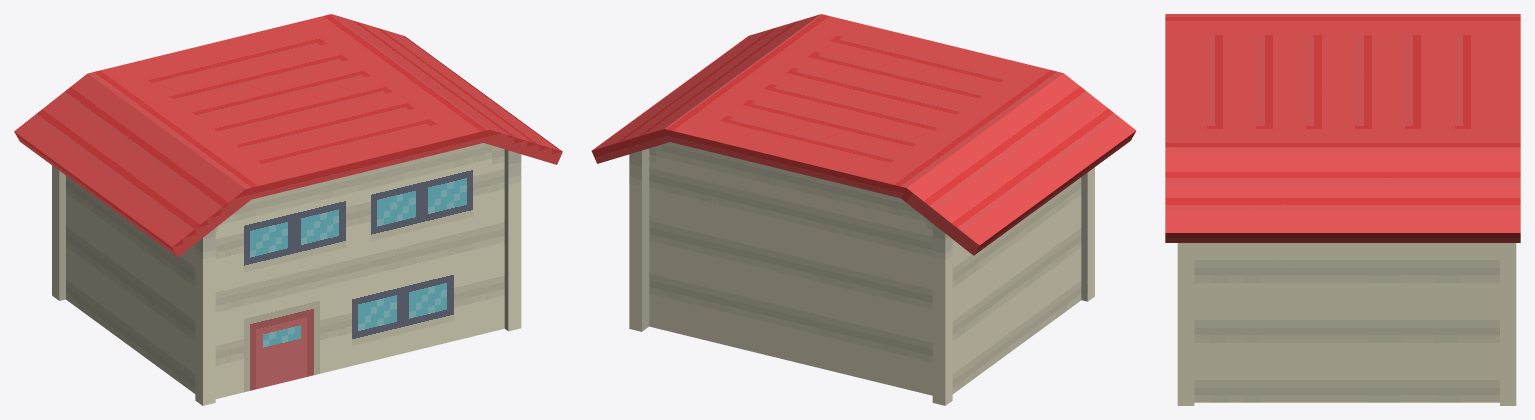
The model's file is casa.gltf.
3 views of the same model, side by side, from view 1: azimuth 30°, elevation 25°; view 2: azimuth 150°, elevation 25°; view 3: azimuth 270°, elevation 25° (orthographic). The views are drawn at different scales.
Parts seen in each view (by area): view 1: Paredes, Telhado, Pilar1; view 2: Paredes, Telhado, Pilar1; view 3: Telhado, Paredes, Pilar1.
Boxes of the visible parts, box(x1,y1,x2,y2) form: Paredes: box(66, 143, 504, 398); Telhado: box(14, 14, 562, 256); Pilar1: box(52, 149, 521, 405); Paredes: box(649, 142, 1081, 395); Telhado: box(591, 14, 1136, 255); Pilar1: box(629, 148, 1094, 405); Telhado: box(1165, 14, 1520, 242); Paredes: box(1194, 243, 1499, 402); Pilar1: box(1177, 243, 1516, 405).
Size of the model in its own units: 11.51 by 5.96 by 8.06.
Materials: 3 (3 with a texture image).
